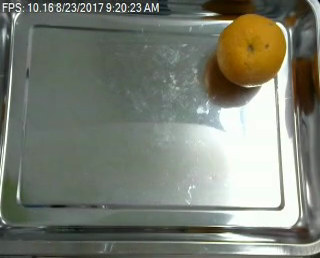Orange: (216, 13, 285, 87)
